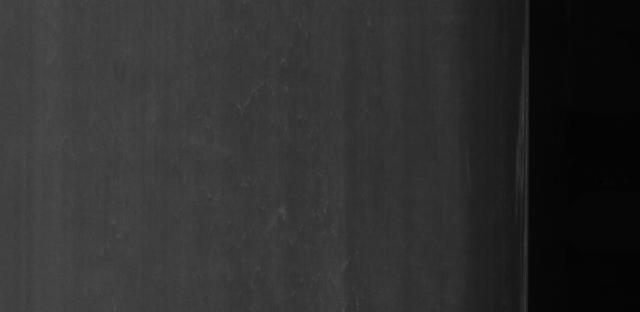silk_spot: (231, 183, 368, 273), (210, 59, 325, 135)
